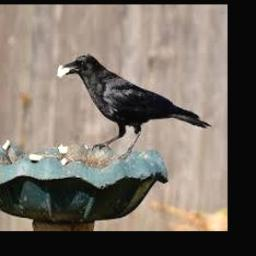Crow: (58, 53, 212, 159)
